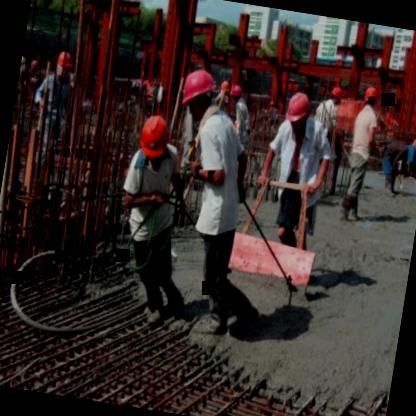helmet: (178, 66, 219, 123), (135, 111, 172, 160), (282, 86, 315, 133), (51, 48, 74, 80), (360, 81, 379, 111), (326, 83, 344, 109), (228, 80, 244, 107), (407, 134, 416, 156)
